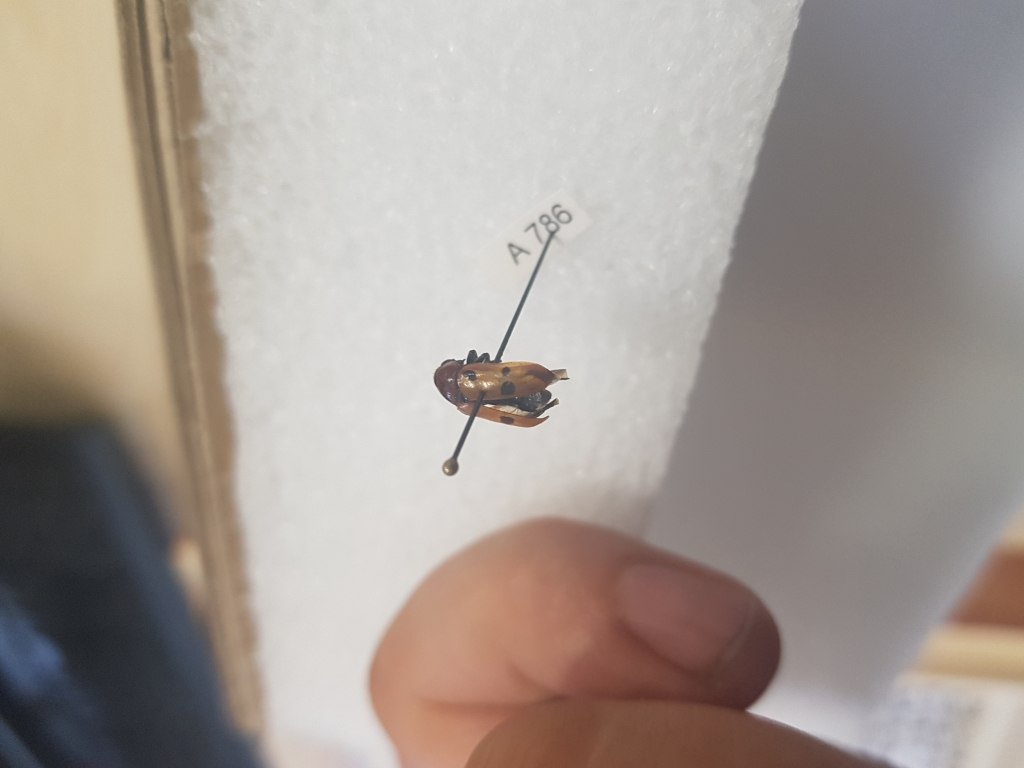Clytra_novempunctata: (430, 347, 571, 432)
